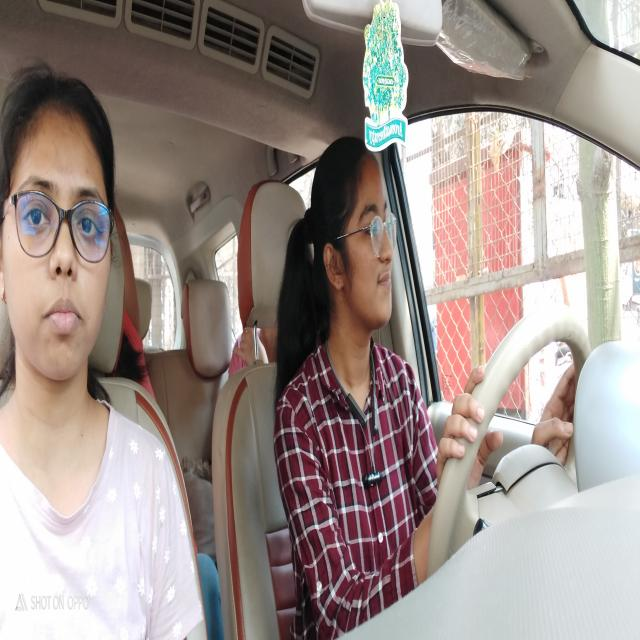drowsy: (317, 143, 398, 336)
person: (4, 94, 112, 376)
